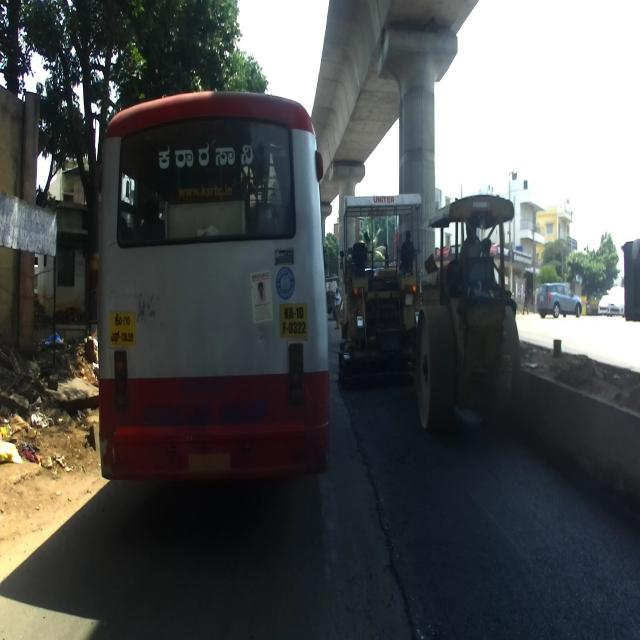Car_Mahindra: (536, 280, 582, 318)
bus: (96, 90, 330, 490)
